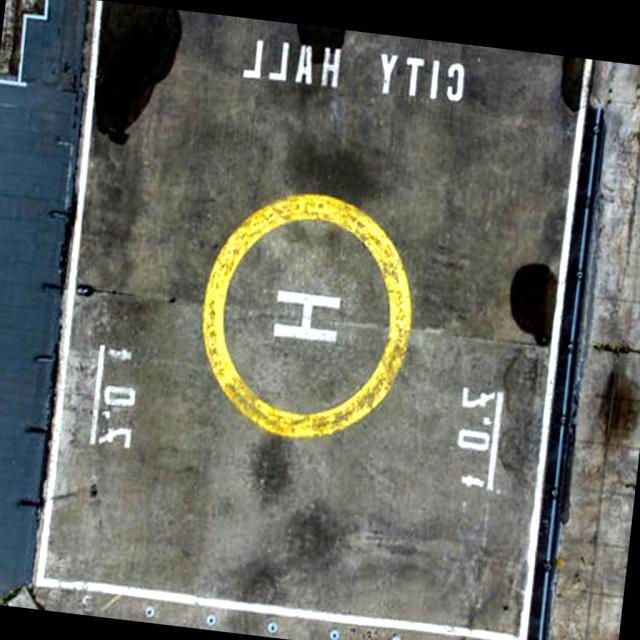helipad: (197, 186, 416, 443)
